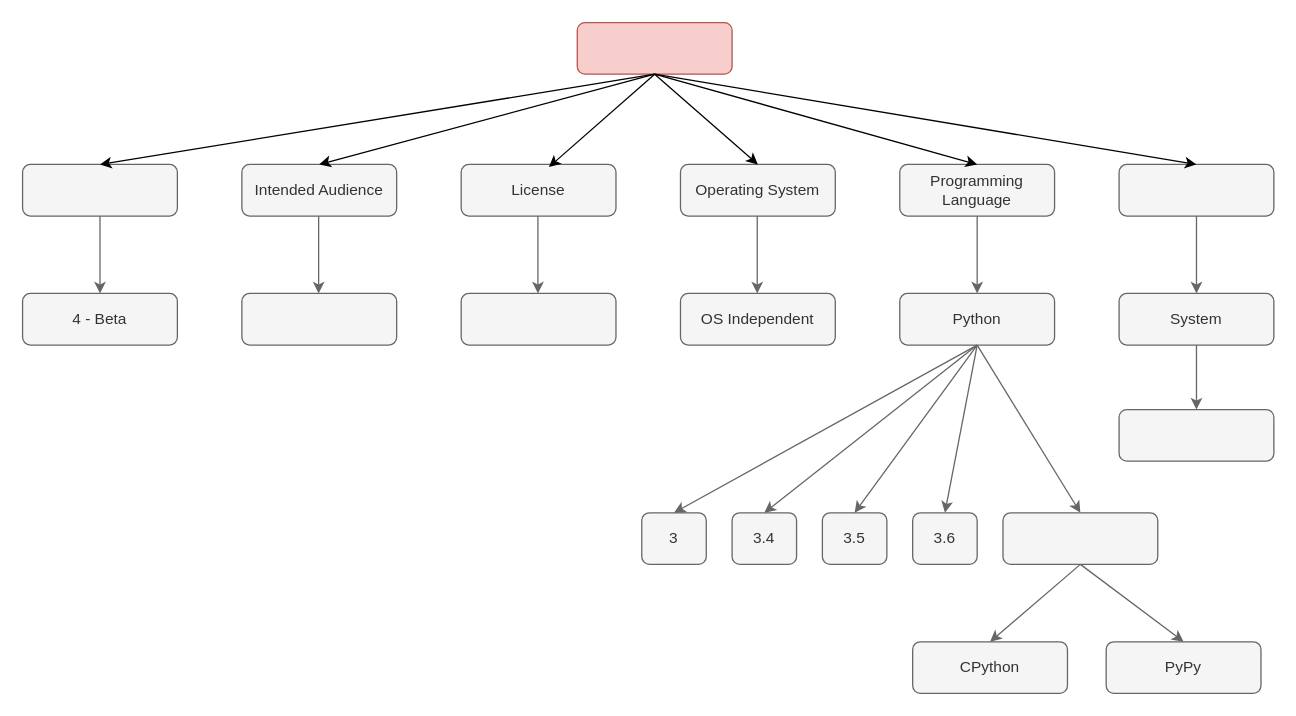
This 1296x716 diagram has some shape labels left out. The centre of each missing label's shape, as x and y in pixels:
"Developers" goes at point 319,318.
"Development Status" goes at point 99,189.
"Distributed Computing" goes at point 1196,434.
"Implementation" goes at point 1080,537.
"OSI Approved" goes at point 538,318.
"Root node" goes at point 654,47.
"Topic" goes at point 1196,189.
